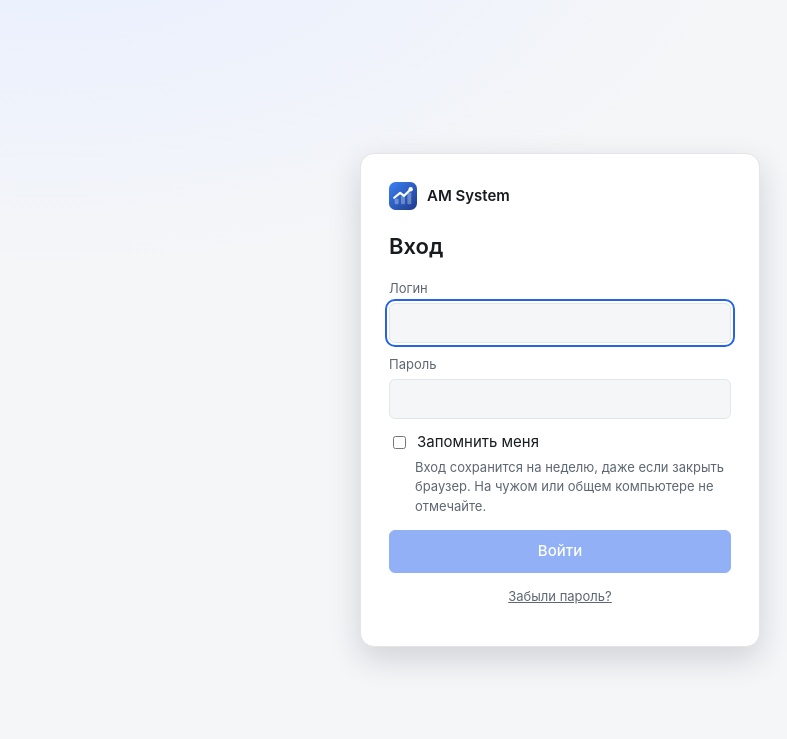
LoginPage › shows a refusal of the new password and goes back to the login
In the field labelled "Логин": [560, 323] box [389,302,731,343], type "  ivanov "
In the password field labelled "Пароль": [560, 399] box [389,378,731,419], type "temporary-1"
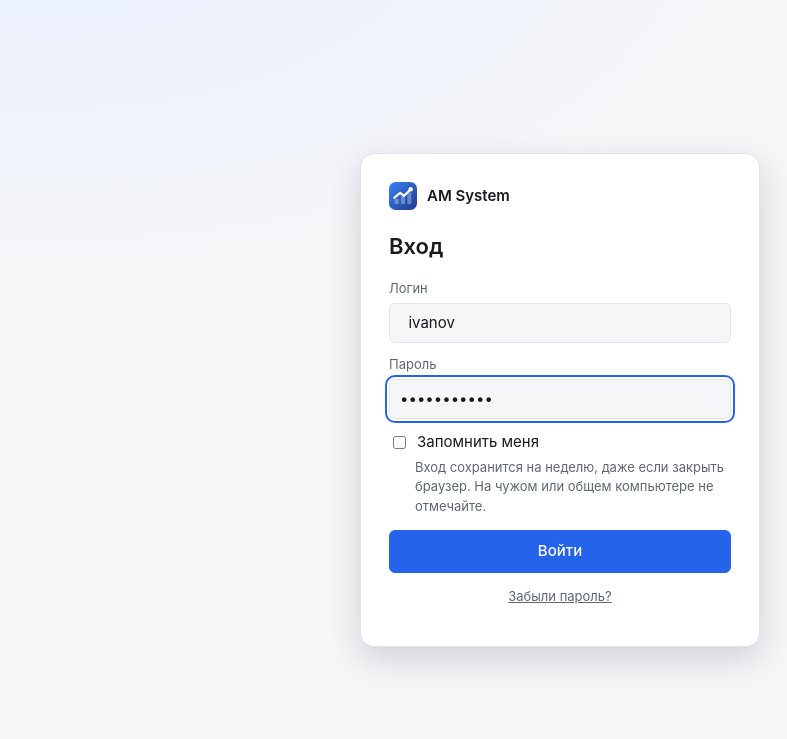
Click the button "Войти": [560, 551] box [389,530,731,572]
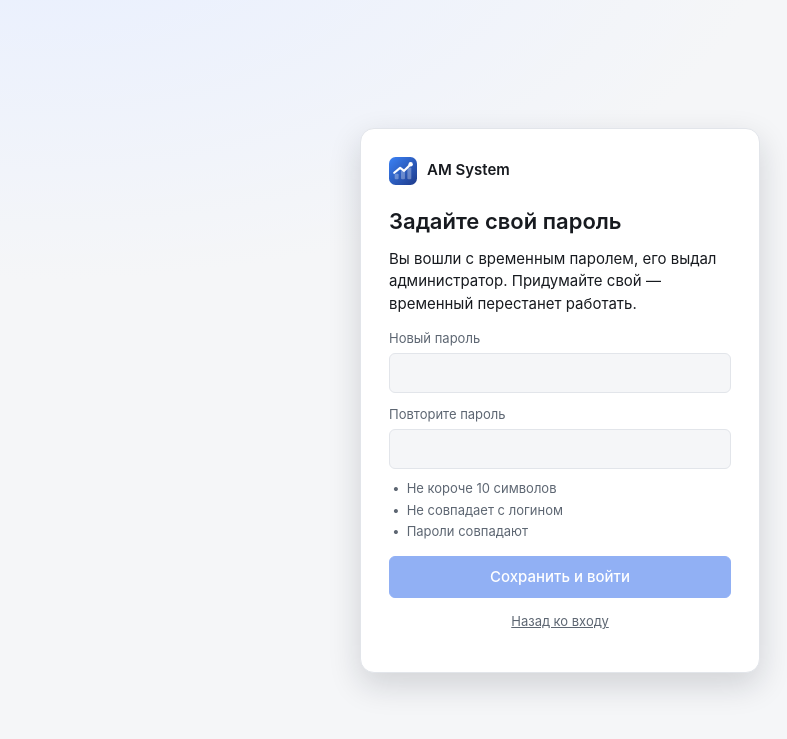
In the password field labelled "Новый пароль": [560, 373] box [389,352,731,393], type "long-enough-1"
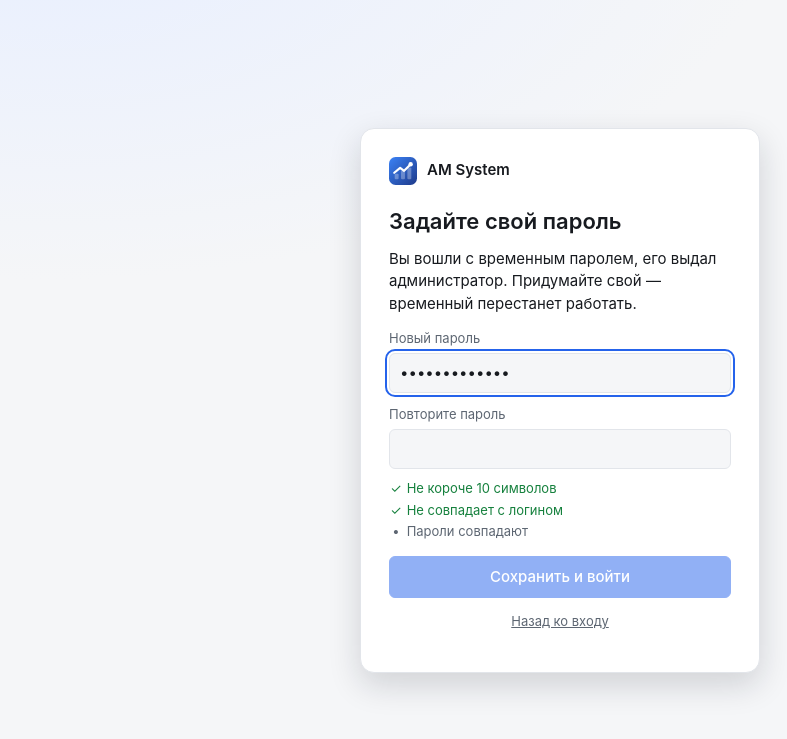
In the password field labelled "Повторите пароль": [560, 449] box [389,428,731,469], type "long-enough-1"
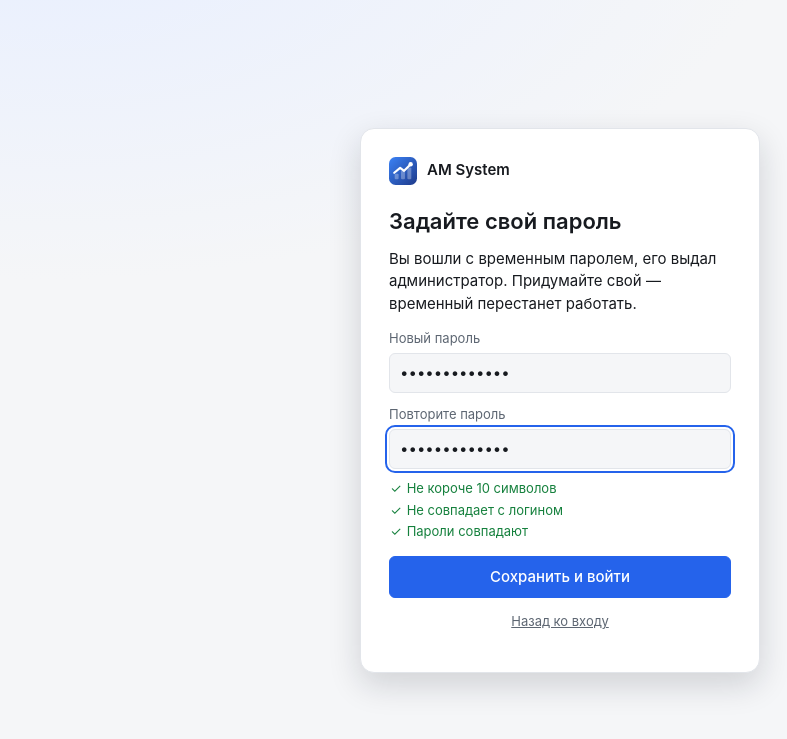
Click the button "Сохранить и войти": [560, 577] box [389,556,731,598]
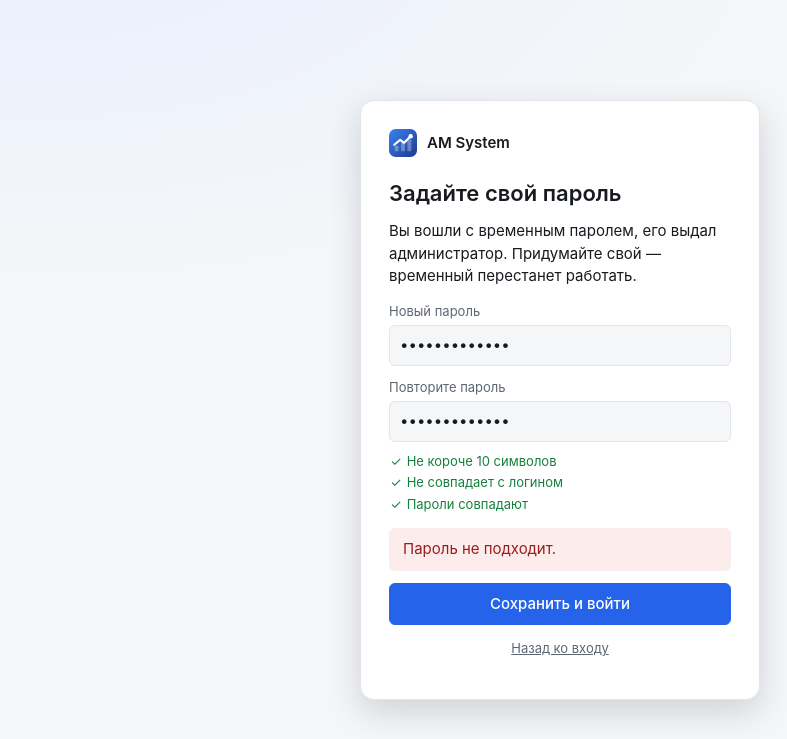
expect the message reads "Пароль не подходит.": met, box [403,539,556,558]
Click the button "Назад ко входу": [560, 649] box [511,639,609,659]
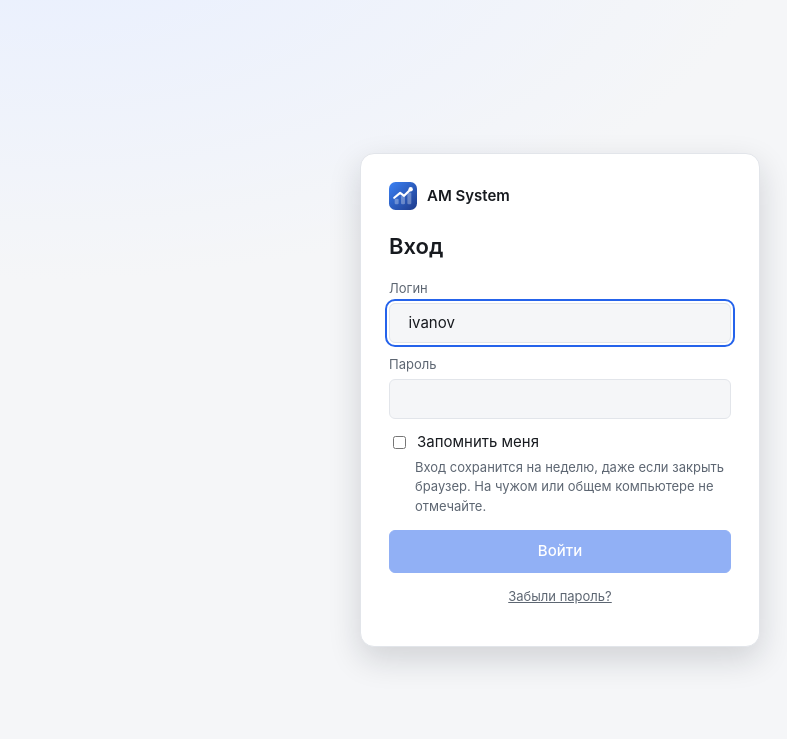
expect the field labelled "Логин" holds "  ivanov ": met, box [389,302,731,343]
expect the password field labelled "Пароль" is empty: met, box [389,378,731,419]
